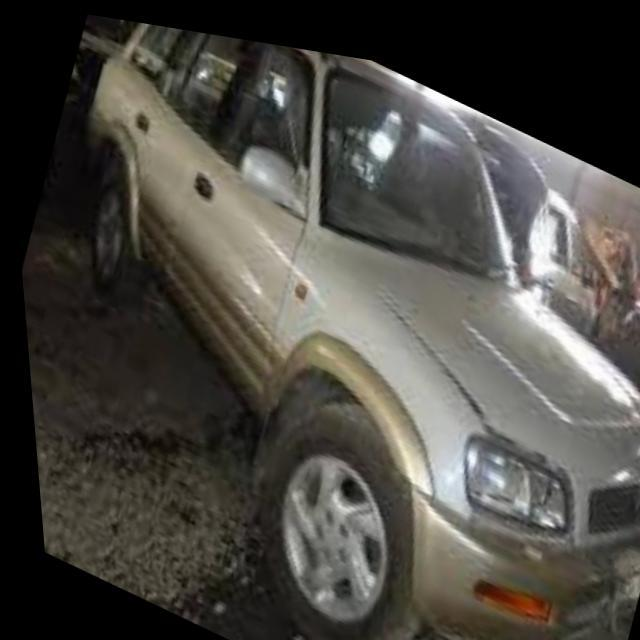dent: (560, 530, 640, 620)
